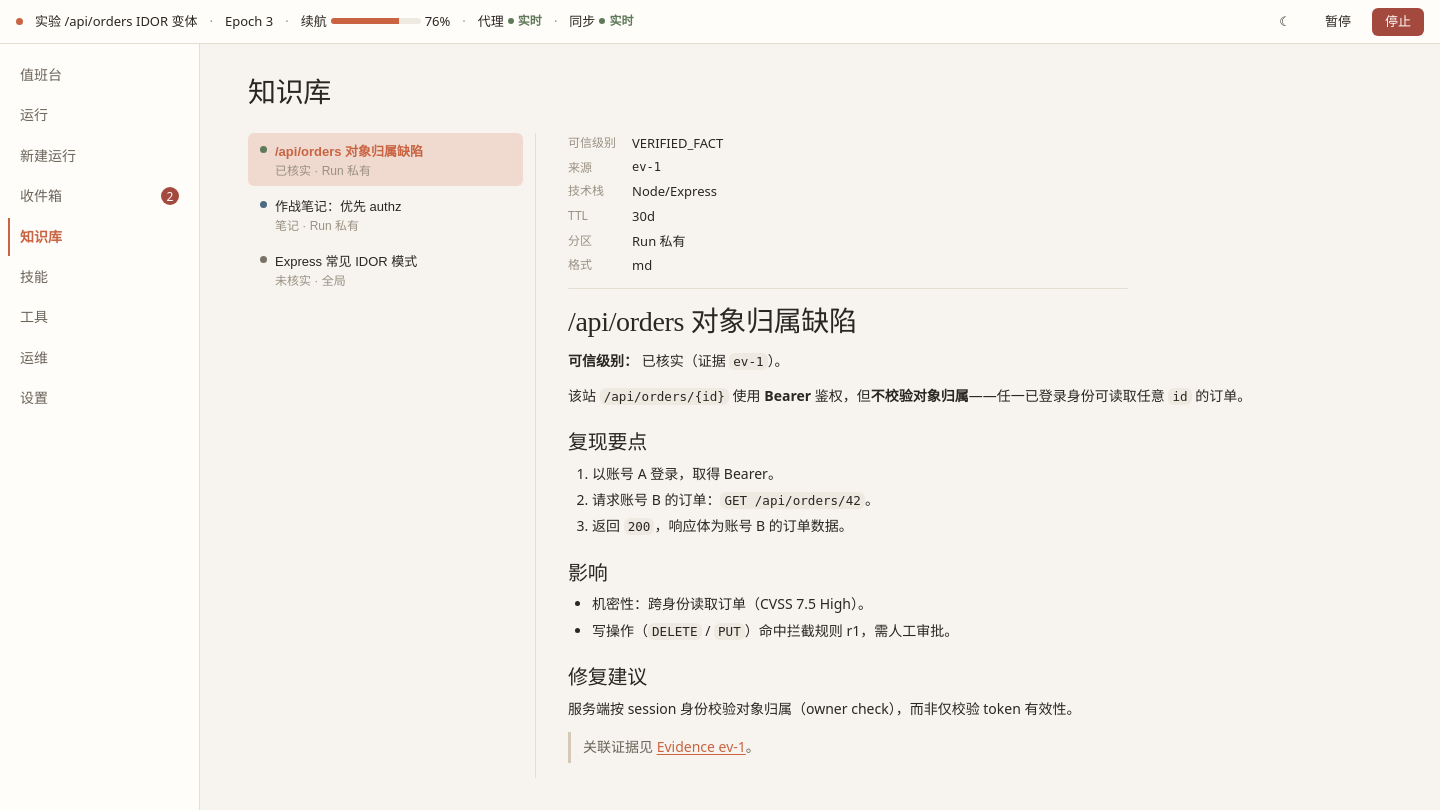
Test: App 外壳与导航 › 知识库 / 技能 / 工具 三个独立页（从左导航进入）
Expected: the heading "知识库" is shown, top-left (248, 76), bottom-right (331, 109)
Expected: the text "VERIFIED_FACT" is shown, top-left (632, 134), bottom-right (723, 152)
Click the link "技能": click(34, 276) top-left (20, 267), bottom-right (48, 286)
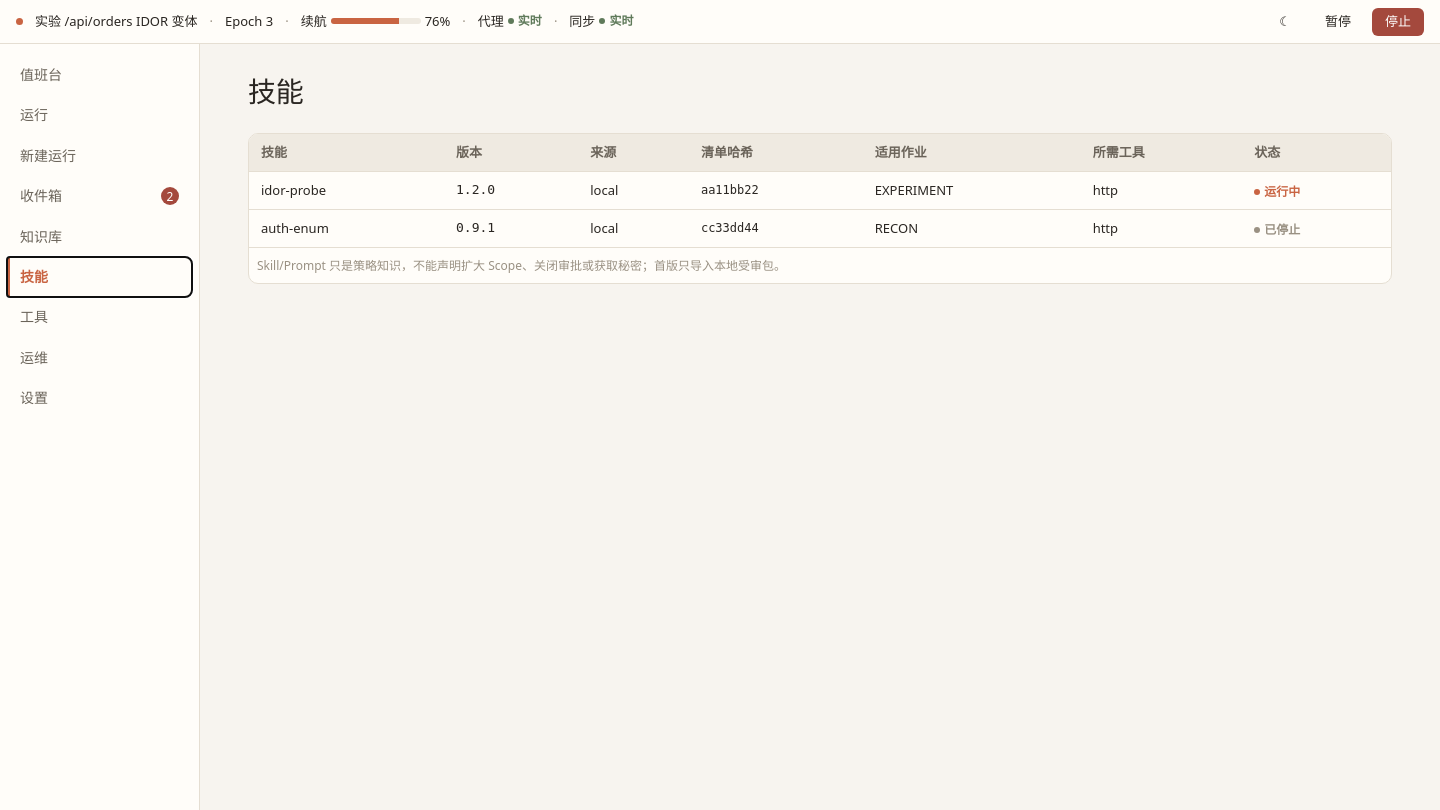
Now the heading "技能" is shown, box top-left (248, 76), bottom-right (303, 109)
Click the link "工具": click(34, 317) top-left (20, 307), bottom-right (48, 326)
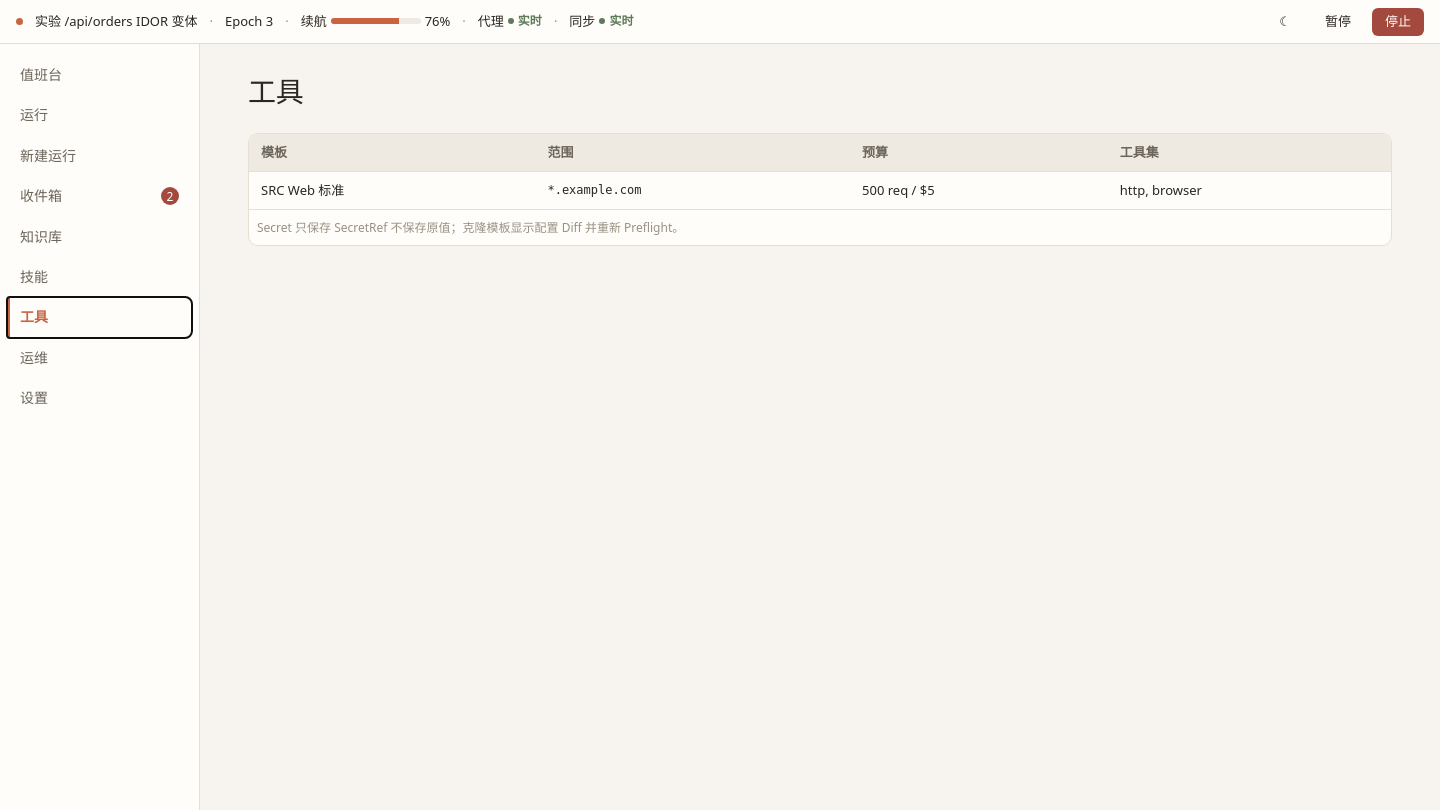
Now the heading "工具" is shown, box top-left (248, 76), bottom-right (303, 109)
